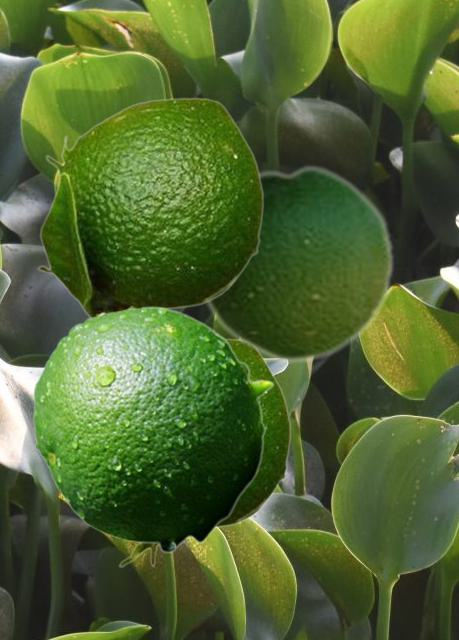dalandan: (32, 305, 273, 553), (36, 97, 263, 316), (118, 338, 290, 567), (202, 162, 394, 364)
